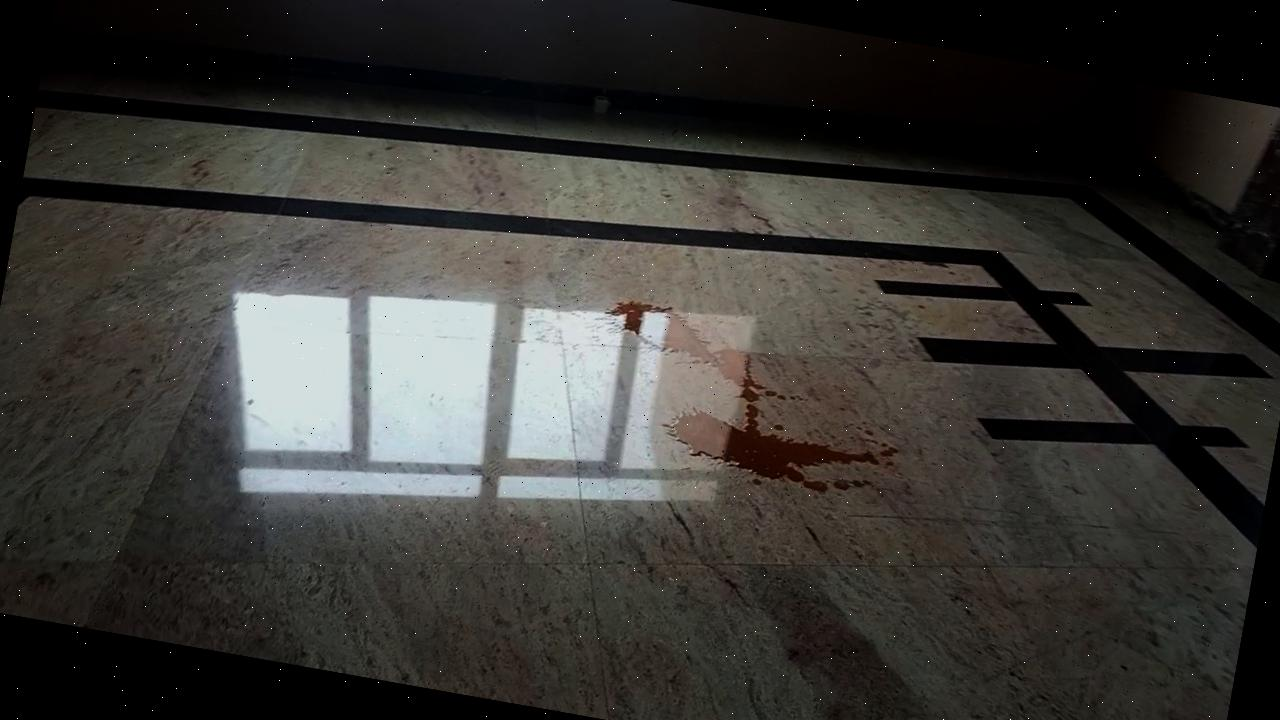dirty_floor: (584, 294, 909, 500)
